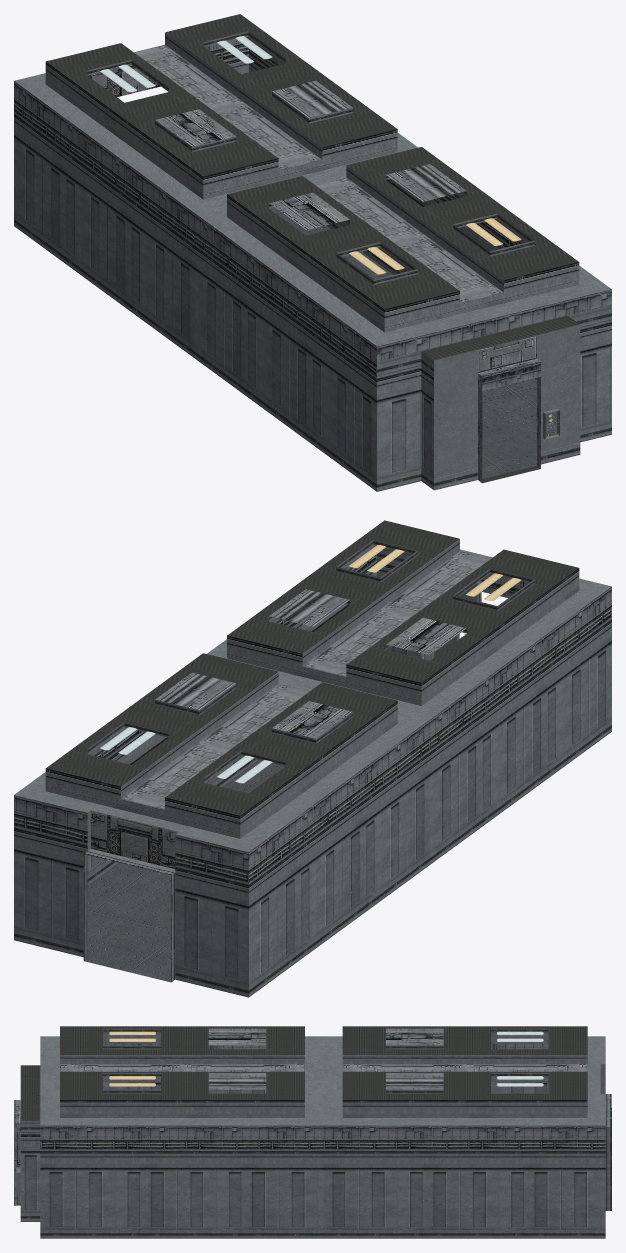
The model's file is poi_all_impl_bunker_s03_r7_room2_mesh_bighall.fbx.
3 renders of one model, top to bottom at view 1: azimuth 30°, elevation 25°; view 2: azimuth 150°, elevation 25°; view 3: azimuth 270°, elevation 25°, orthographic. The views are drawn at different scales.
Visible parts, largest first — view 1: mesh_node; view 2: mesh_node; view 3: mesh_node.
Boxes of the visible parts, bbox=[...] form: mesh_node: bbox=[14, 14, 611, 491]; mesh_node: bbox=[14, 520, 611, 997]; mesh_node: bbox=[14, 1026, 611, 1238].
Bounding box in the file's own units: 8.03 × 5.69 × 22.75.
